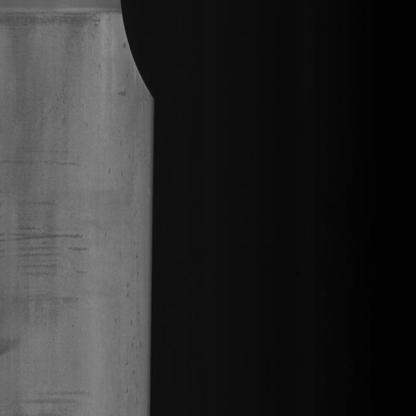welding_line: (0, 0, 137, 38)
